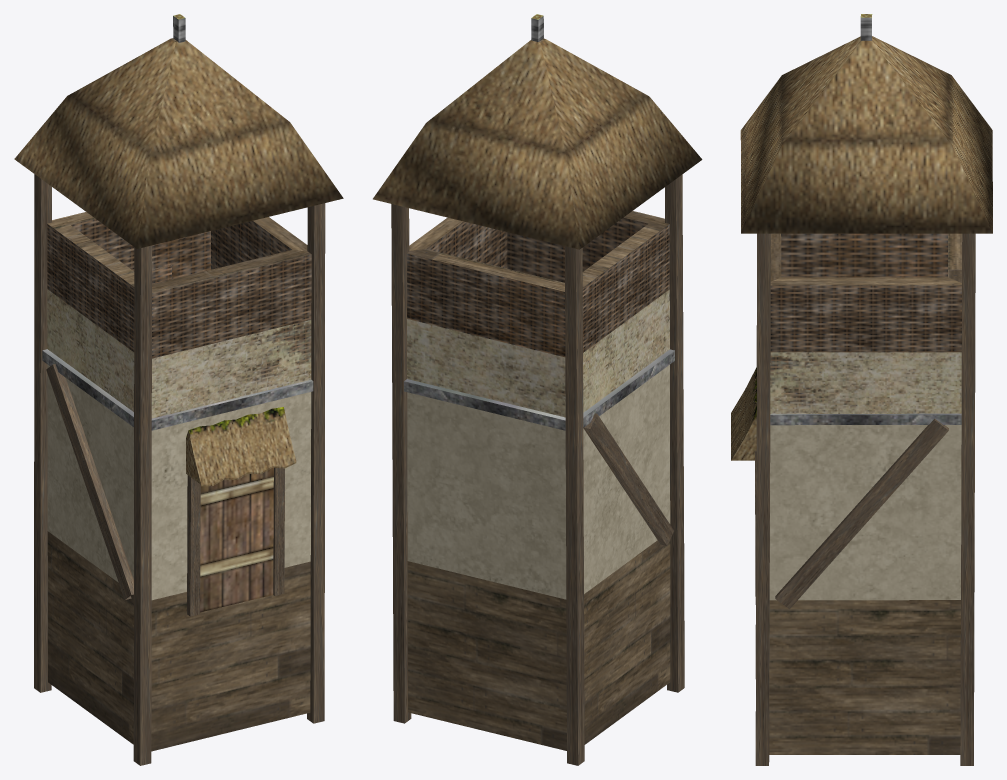
File: wood_tower.dae
The picture shows the model from 3 angles, left to right: view 1: azimuth 30°, elevation 25°; view 2: azimuth 150°, elevation 25°; view 3: azimuth 270°, elevation 25°; orthographic projection. The views are drawn at different scales.
Visible parts, largest first — view 1: wood_tower; view 2: wood_tower; view 3: wood_tower.
Part boxes in pixels (x1=…): wood_tower: x1=14, y1=14, x2=343, y2=765; wood_tower: x1=373, y1=14, x2=702, y2=765; wood_tower: x1=731, y1=14, x2=992, y2=765.
Size of the model in its own units: 7.04 by 7.53 by 22.35.
